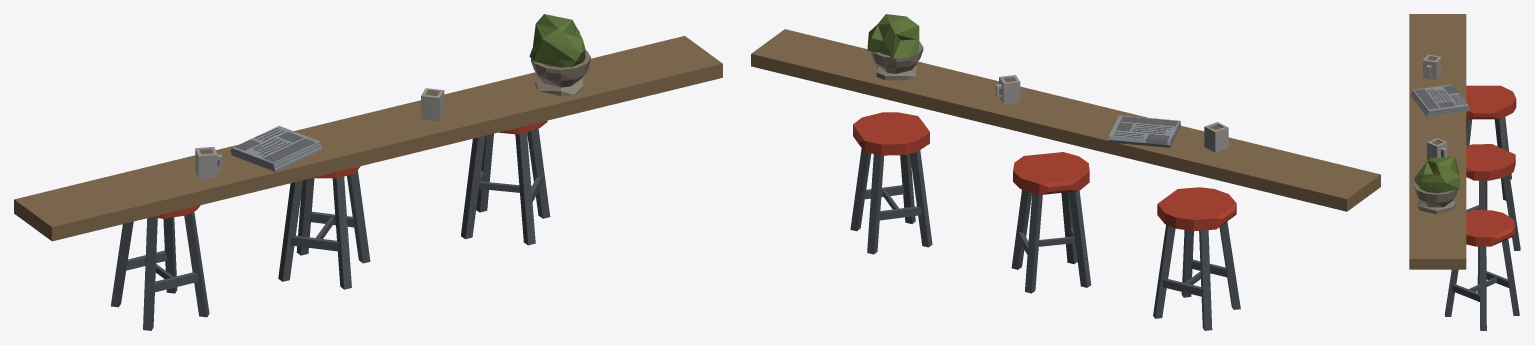
File: SM_Prop_ShopInterior_Cafe_01.glb
3 renders of one model, left to right at view 1: azimuth 30°, elevation 25°; view 2: azimuth 150°, elevation 25°; view 3: azimuth 270°, elevation 25°, orthographic. The views are drawn at different scales.
Visible parts, largest first — view 1: SM_Prop_ShopInterior_Cafe_01; view 2: SM_Prop_ShopInterior_Cafe_01; view 3: SM_Prop_ShopInterior_Cafe_01.
Part boxes in pixels (box(x1,y1,x2,y2)): SM_Prop_ShopInterior_Cafe_01: box(14, 14, 722, 330); SM_Prop_ShopInterior_Cafe_01: box(751, 14, 1380, 330); SM_Prop_ShopInterior_Cafe_01: box(1409, 14, 1520, 330).
Bounding box in the file's own units: 0.05 × 0.0158 × 0.0096.
1 material, 1 textured.
